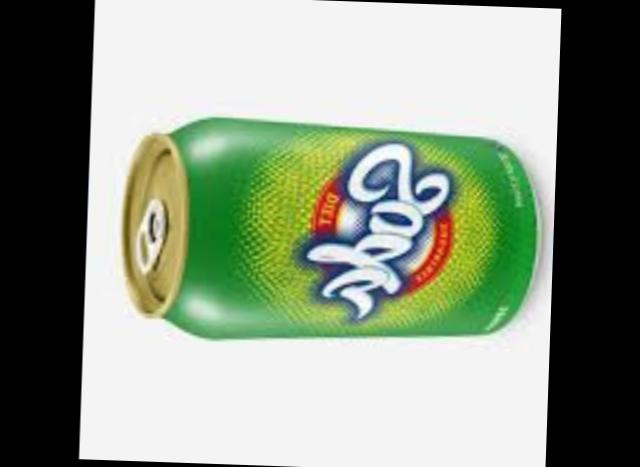metal: (119, 113, 532, 331)
